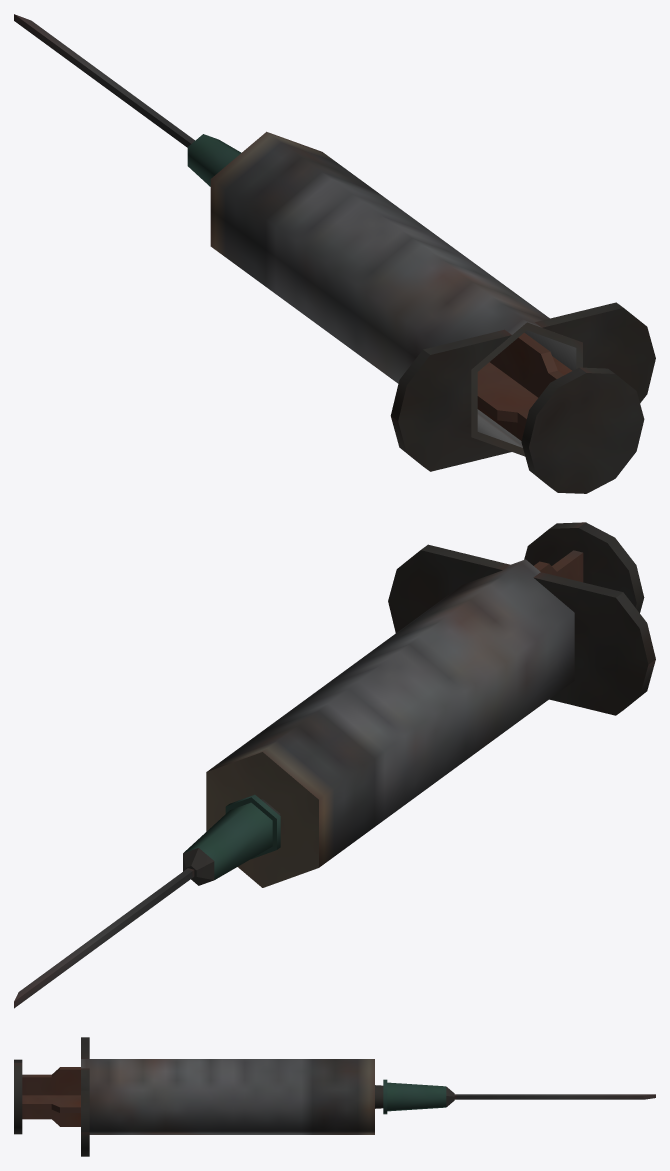
Rendered from syringe_mp_1_1.obj.
3 renders of one model, top to bottom at view 1: azimuth 30°, elevation 25°; view 2: azimuth 150°, elevation 25°; view 3: azimuth 270°, elevation 25°, orthographic. The views are drawn at different scales.
Visible parts, largest first — view 1: syringe_mp_1_1; view 2: syringe_mp_1_1; view 3: syringe_mp_1_1.
Part boxes in pixels (bbox=[...]): syringe_mp_1_1: bbox=[14, 14, 655, 493]; syringe_mp_1_1: bbox=[14, 522, 655, 1008]; syringe_mp_1_1: bbox=[14, 1037, 655, 1156].
Size of the model in its own units: 0.04 by 0.02 by 0.153.
